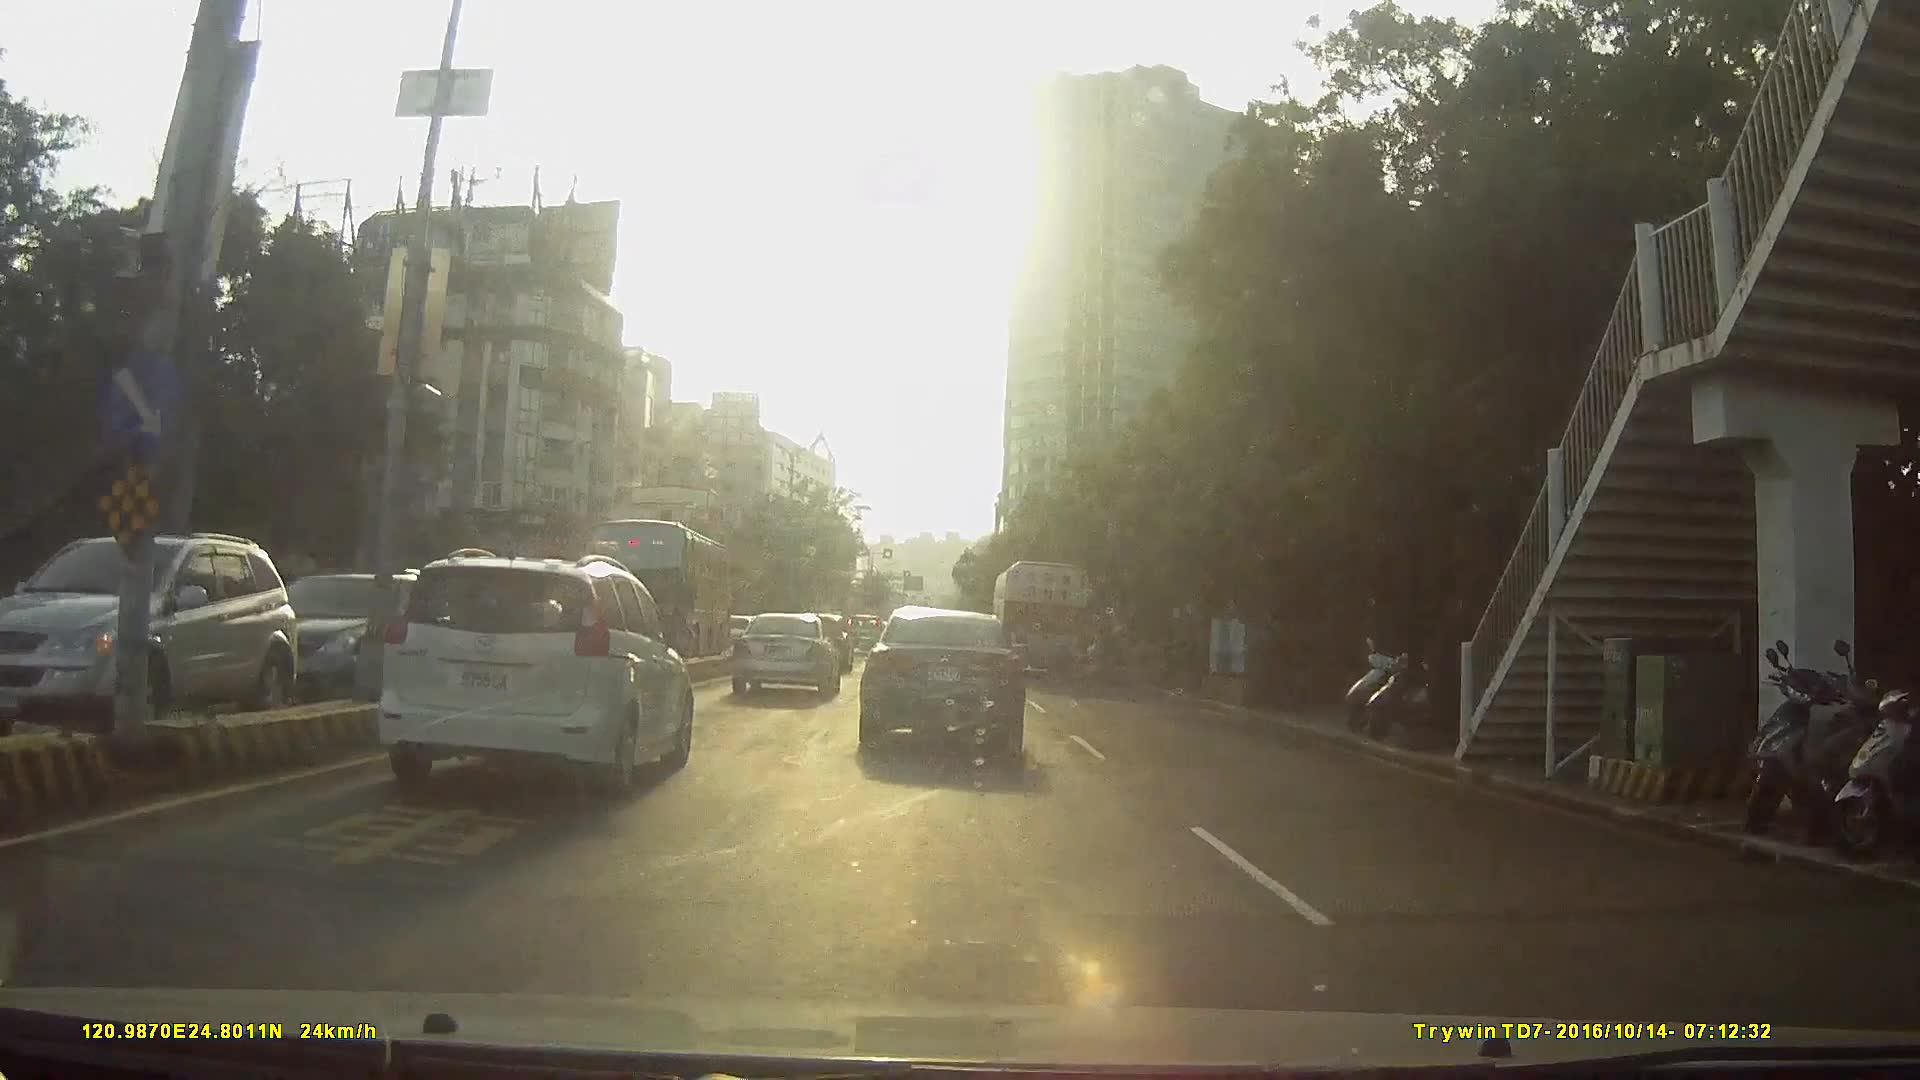vehicle: (251, 556, 684, 868), (378, 545, 694, 796), (12, 522, 309, 737), (232, 564, 450, 702), (858, 597, 1027, 765), (574, 514, 727, 659), (992, 554, 1096, 680), (731, 611, 839, 702), (843, 609, 889, 653)
